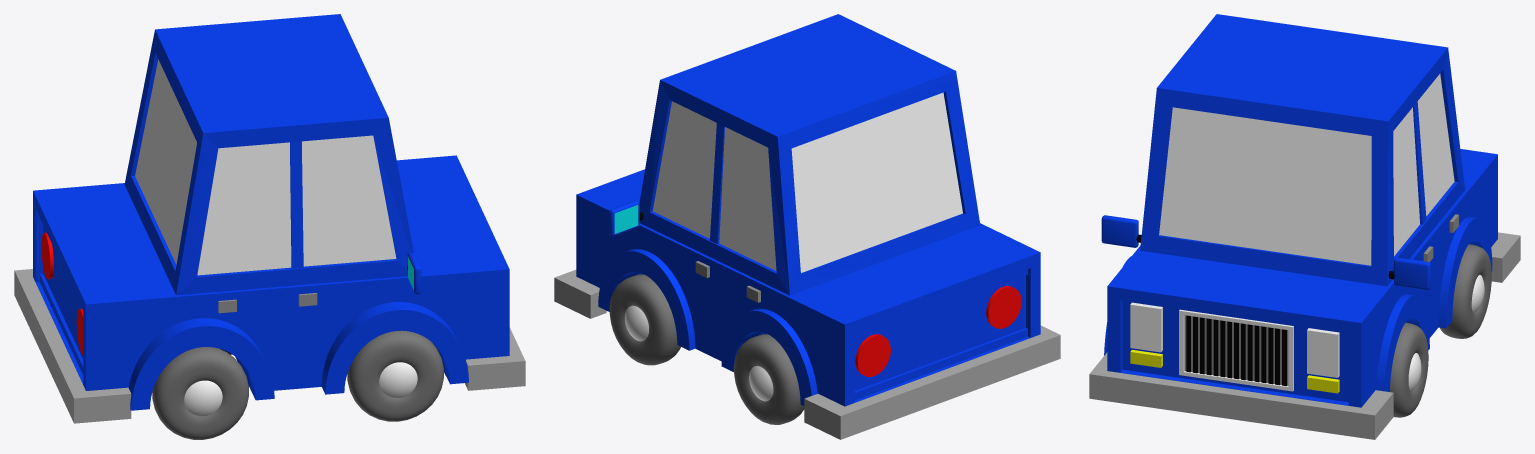
Rendered from carroAzul.glb.
3 renders of one model, left to right at view 1: azimuth 30°, elevation 25°; view 2: azimuth 150°, elevation 25°; view 3: azimuth 270°, elevation 25°, orthographic. The views are drawn at different scales.
Visible parts, largest first — view 1: Object016; view 2: Object016; view 3: Object016.
Boxes of the visible parts, x1,y1,x2,y2 form: Object016: (14, 14, 525, 439); Object016: (554, 14, 1060, 439); Object016: (1089, 14, 1520, 439).
Bounding box in the file's own units: 3.59 × 2.18 × 2.96.
